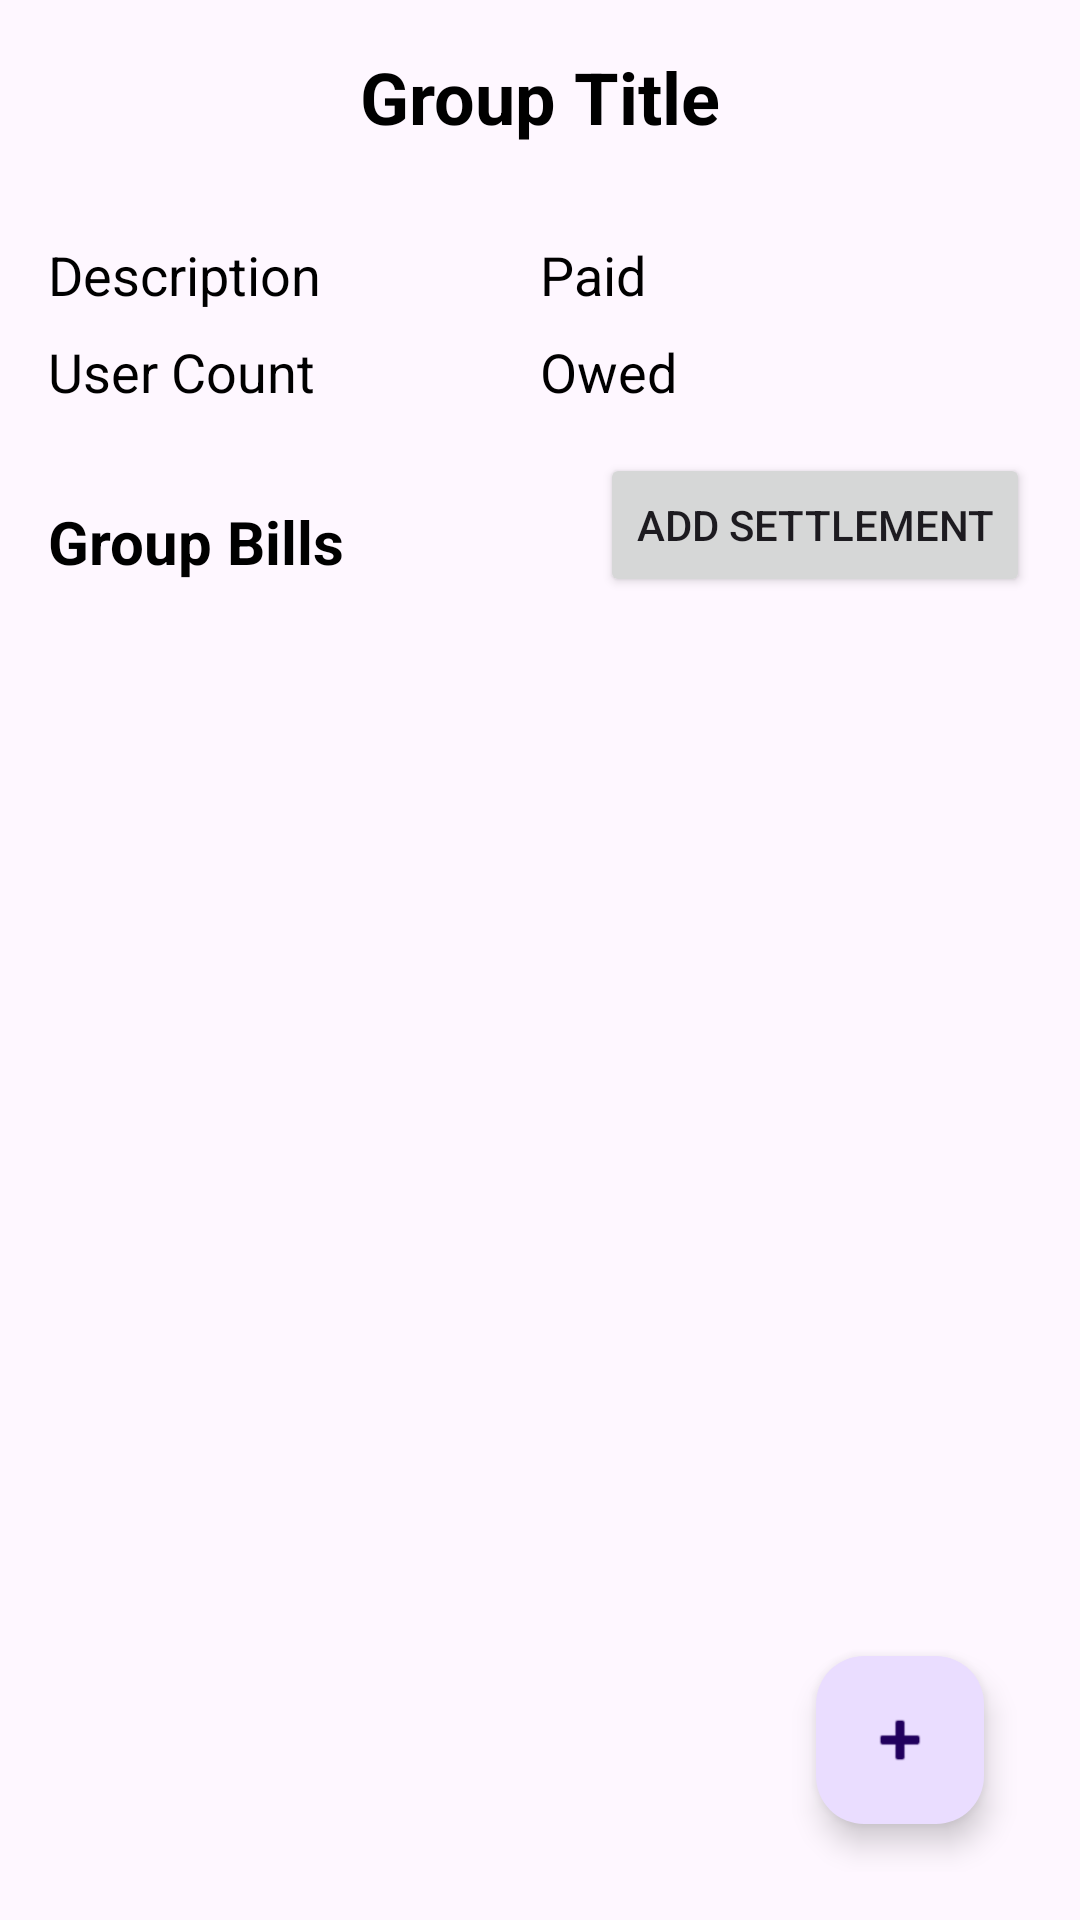

Where icons sit on this 1080x1920 app screen, as (x1, y1, x2, y2):
Add a new bill: (816, 1656, 984, 1824)
